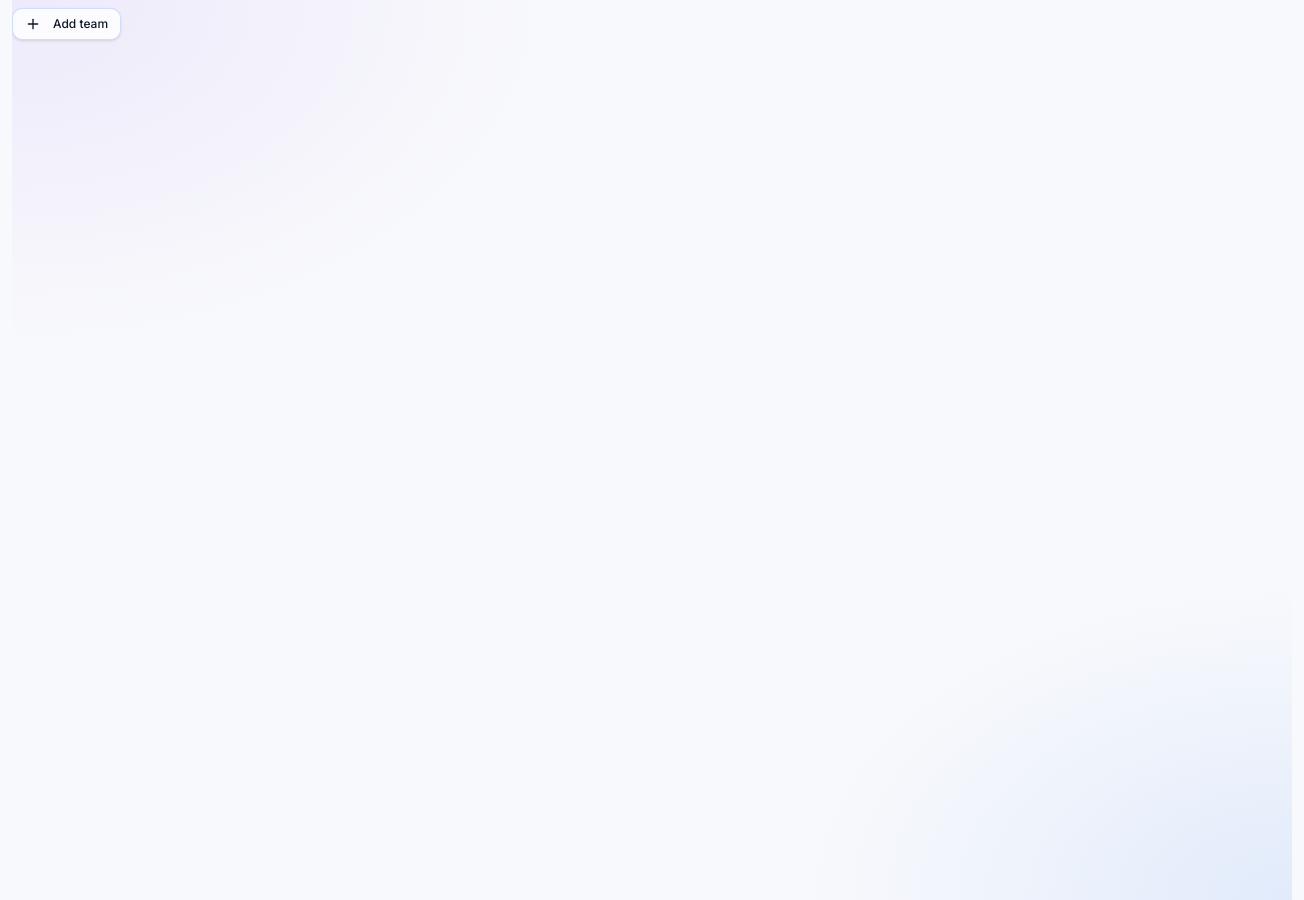
Test: admin quick team creation › creates a trimmed team in the selected organization and stays ready for another
Click the button with aria-label "Add team to Alpha Club": (67, 24) [12, 8, 121, 40]
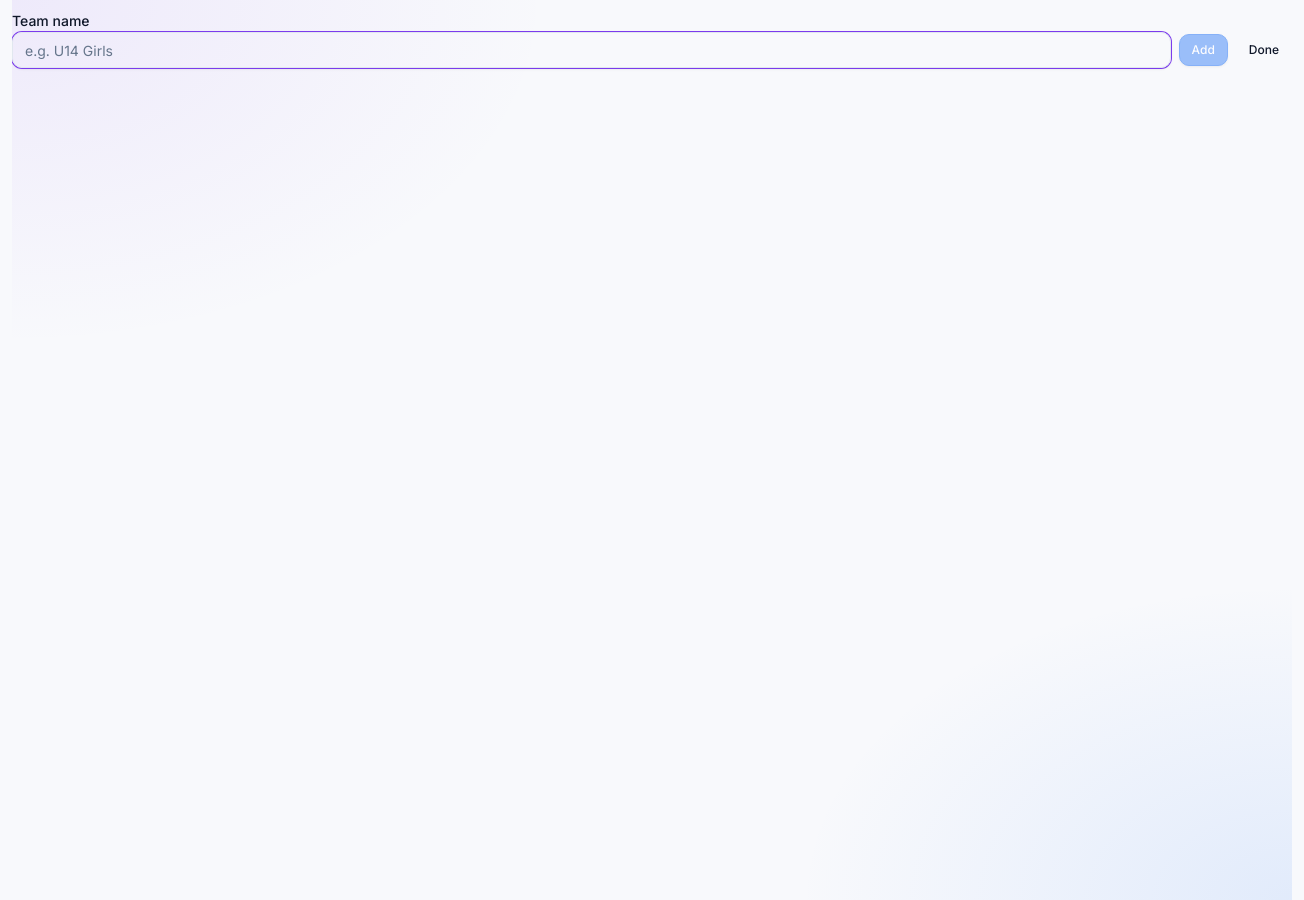
Expected: the button "Add" is disabled, [1179, 34, 1228, 66]
In the field labelled "Team name": (591, 50) [12, 32, 1171, 68], type "  U14 Girls  "
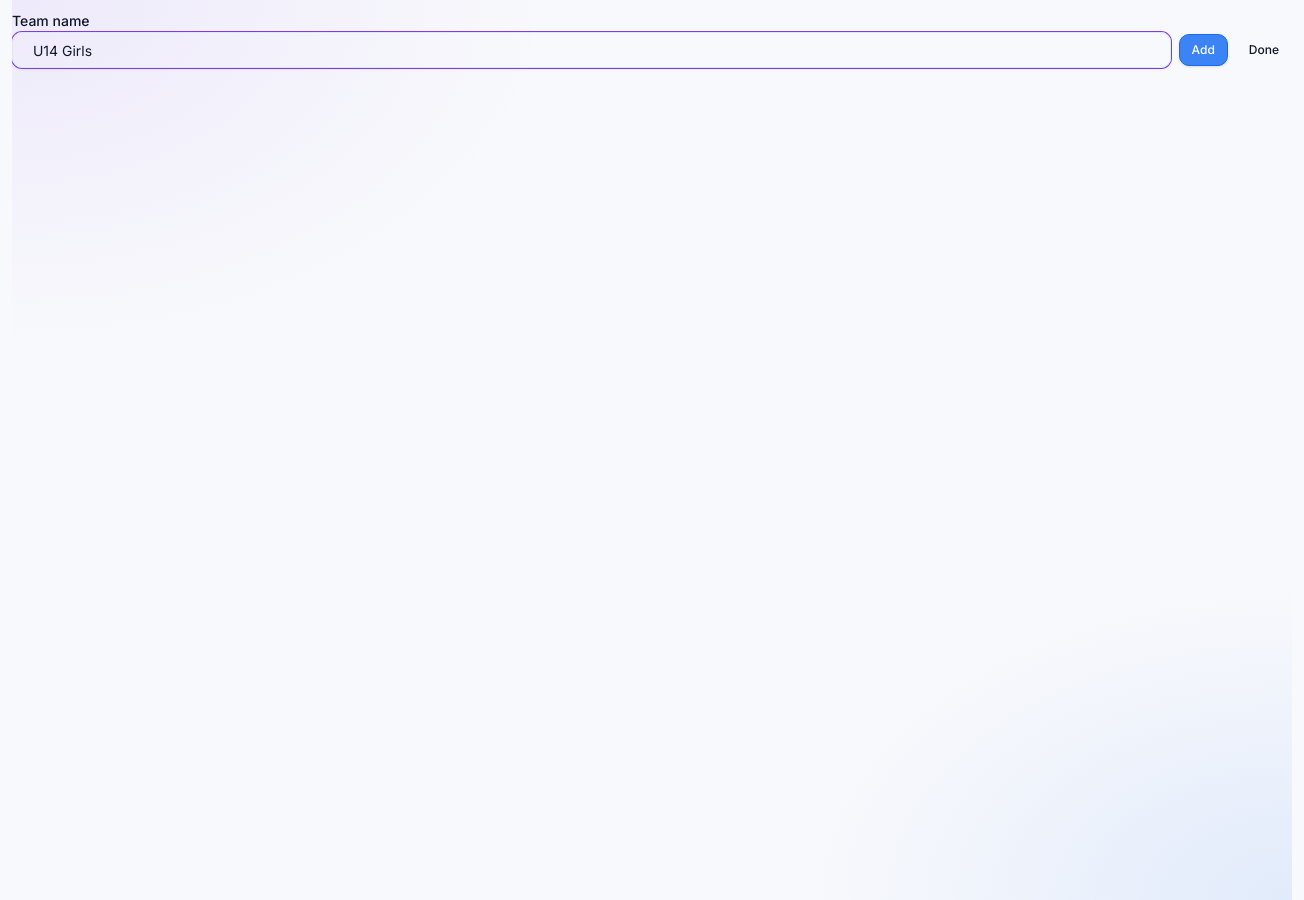
Press Enter
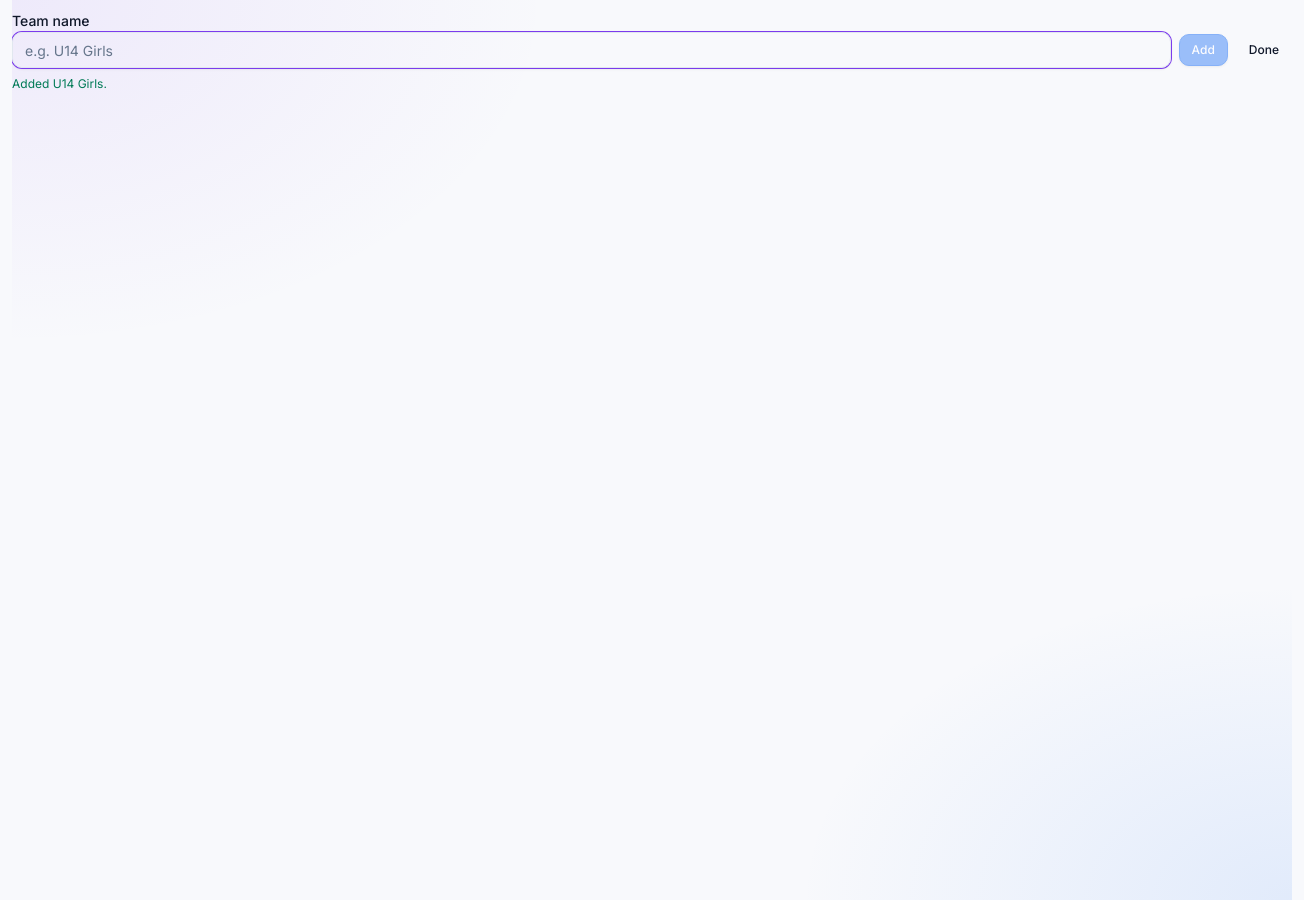
Now the message reads "Added U14 Girls.", box [12, 76, 107, 91]
Now the field labelled "Team name" is empty
In the field labelled "Team name": (591, 50) [12, 32, 1171, 68], type "U16 Boys"
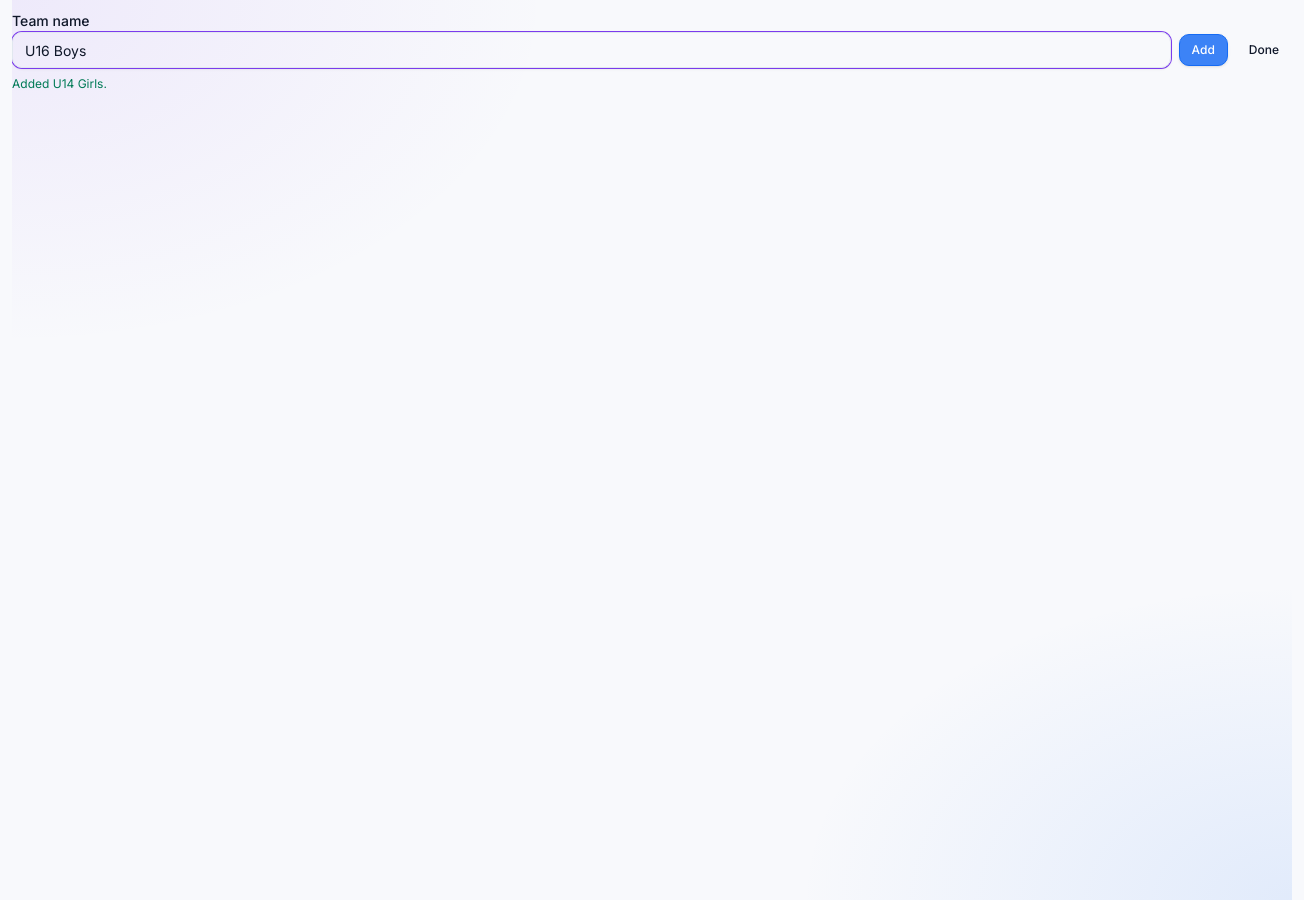
Click the button "Add": (1203, 50) [1179, 34, 1228, 66]
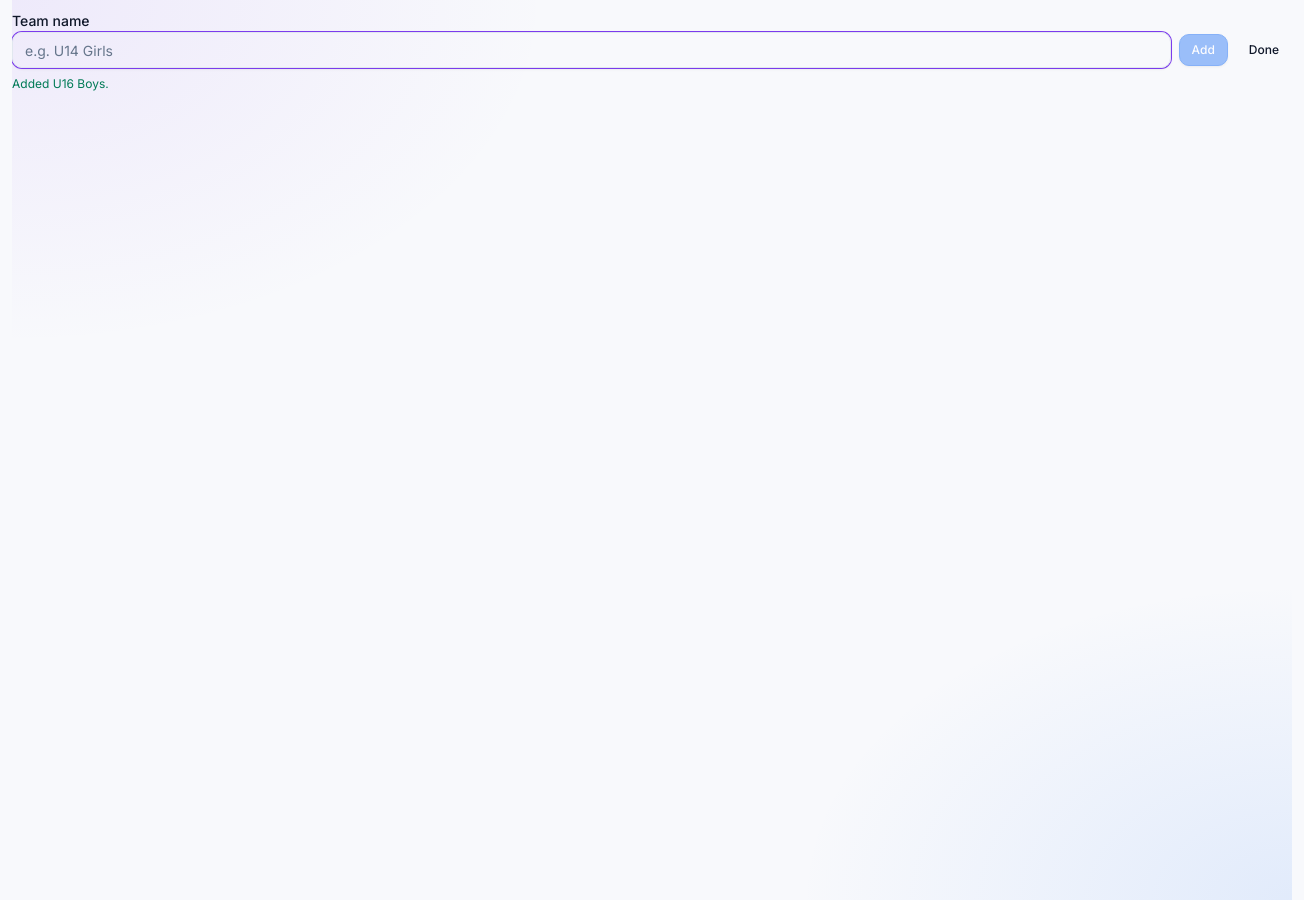
Now the message reads "Added U16 Boys.", box [12, 76, 109, 91]
